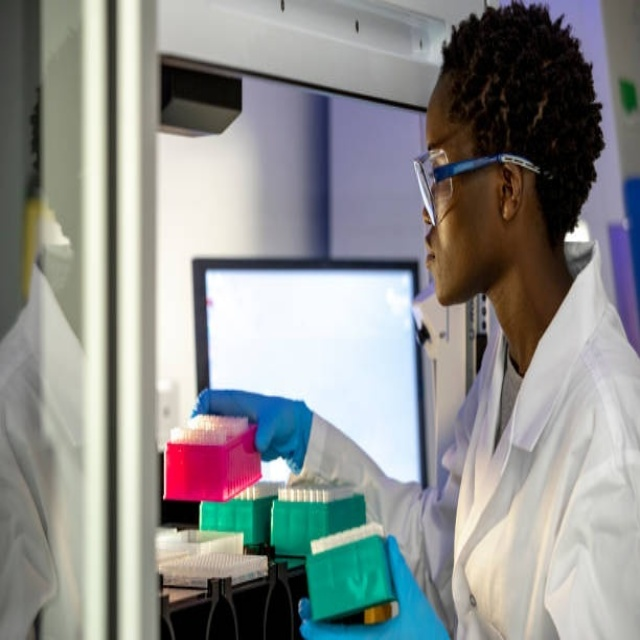Gafas: (411, 148, 551, 227)
Guantes: (299, 535, 451, 640), (189, 388, 315, 475)
Sin_mascara: (422, 221, 468, 304)
